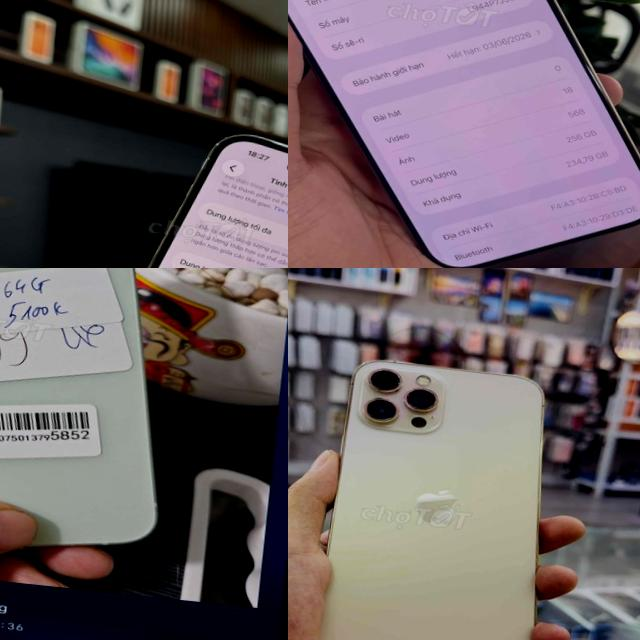gen_12_13: (308, 352, 569, 640), (0, 268, 208, 570)
gen_14: (54, 117, 288, 268)
gen_16: (288, 0, 640, 268)
